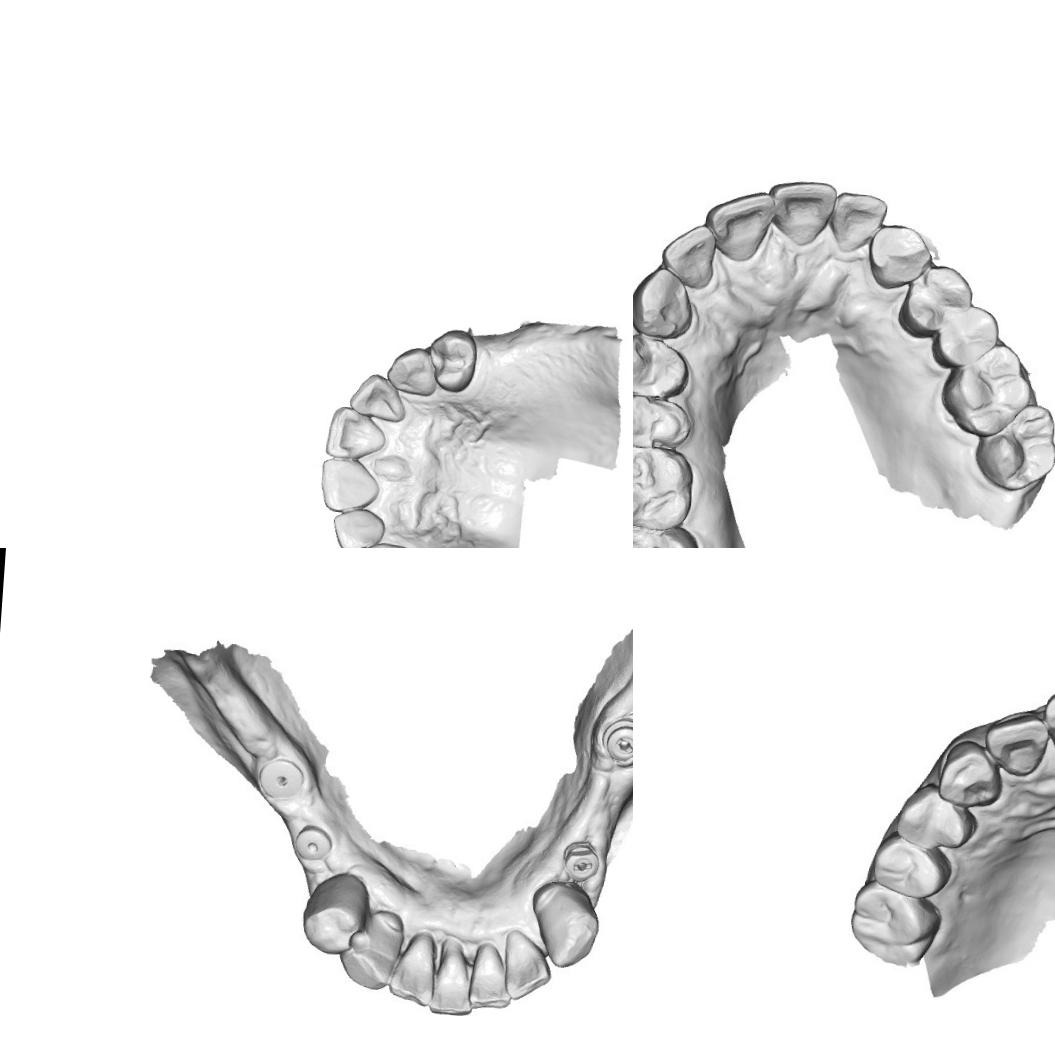canine: (526, 878, 604, 971), (336, 904, 407, 992), (633, 261, 700, 341), (938, 735, 1004, 810), (383, 343, 439, 398)
implant: (254, 754, 308, 804), (291, 821, 334, 865)
implant_minus: (558, 838, 602, 884), (598, 714, 633, 766)
incisor: (698, 179, 776, 266), (765, 176, 840, 250), (824, 185, 892, 256), (983, 711, 1052, 779), (386, 928, 442, 1008), (500, 925, 556, 1004), (659, 220, 718, 290), (317, 455, 382, 516), (426, 941, 476, 1018), (323, 404, 389, 462), (466, 939, 516, 1013), (346, 370, 408, 424), (328, 505, 387, 548)
molar: (936, 336, 1038, 442), (847, 881, 945, 973), (971, 397, 1055, 493), (633, 440, 702, 533), (871, 834, 954, 900), (633, 518, 707, 548)
premolar: (892, 260, 978, 342), (297, 869, 373, 958), (894, 779, 977, 851), (928, 297, 1002, 374), (864, 220, 931, 293), (633, 325, 694, 401), (633, 387, 698, 452), (424, 326, 481, 395)
